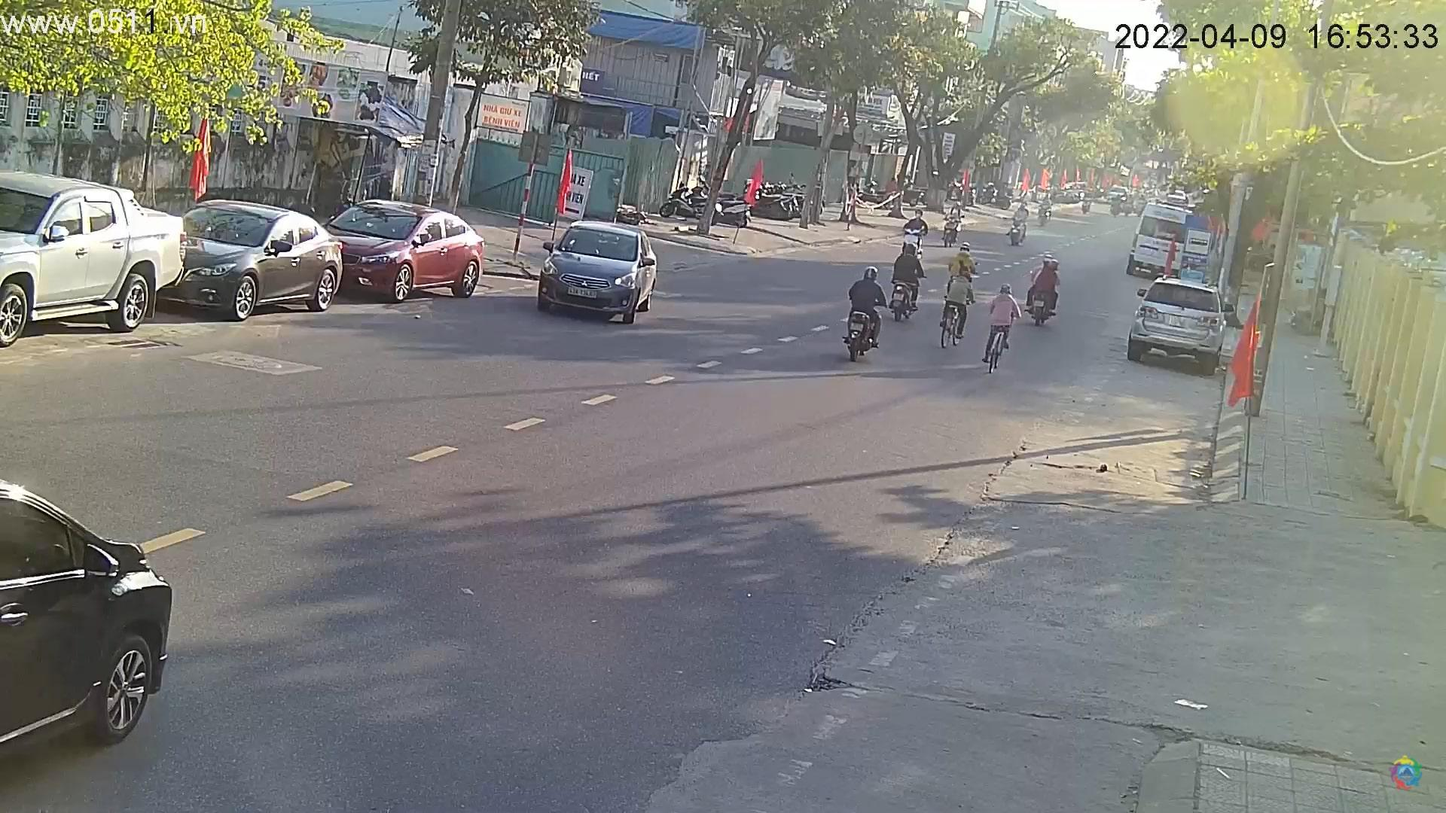car: (2, 170, 188, 352), (169, 201, 352, 322), (316, 199, 491, 304), (534, 224, 657, 323), (1130, 276, 1230, 376), (1128, 203, 1220, 281)
motorbike: (837, 298, 879, 361), (887, 264, 921, 326), (1025, 269, 1060, 327)
